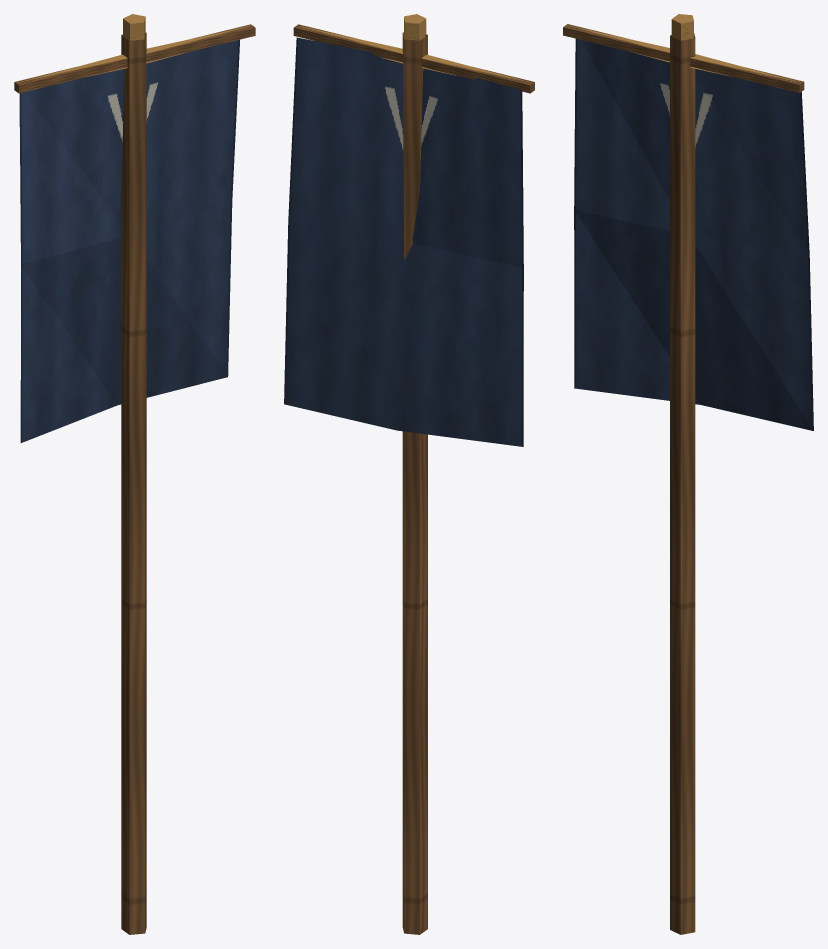
Rendered from ae_battle_banner_def_lod1.glb.
The picture shows the model from 3 angles, left to right: view 1: azimuth 30°, elevation 25°; view 2: azimuth 150°, elevation 25°; view 3: azimuth 330°, elevation 25°; orthographic projection.
Parts seen in each view (by area): view 1: ae_battle_banner_def_lod1; view 2: ae_battle_banner_def_lod1; view 3: ae_battle_banner_def_lod1.
Part boxes in pixels (x1,y1,x2,y2): ae_battle_banner_def_lod1: (14,14,255,934); ae_battle_banner_def_lod1: (284,14,534,934); ae_battle_banner_def_lod1: (563,14,813,934).
Size of the model in its own units: 3.6 by 13.24 by 0.6613.
Materials: 1 (1 with a texture image).
